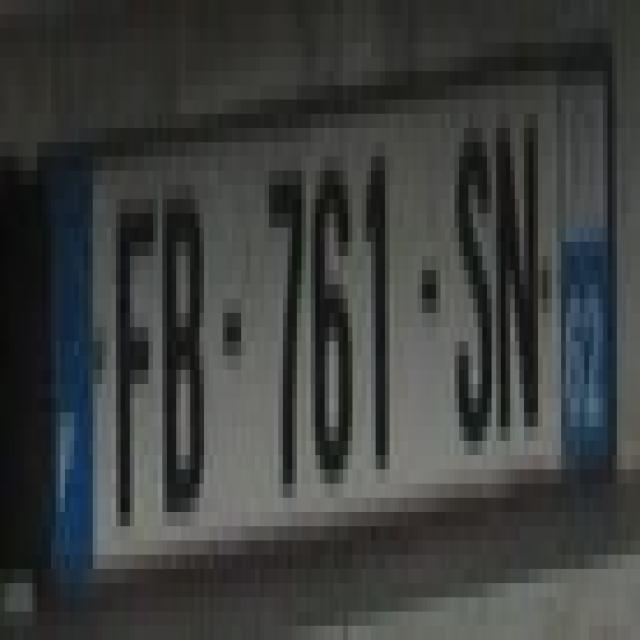EU: (39, 53, 618, 613)
France: (46, 167, 97, 569)
